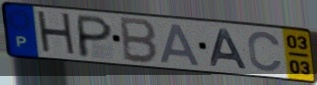A: (159, 22, 204, 68), (209, 28, 250, 71)
B: (119, 15, 160, 66)
C: (246, 30, 285, 74)
H: (34, 9, 79, 59)
P: (76, 13, 115, 60)
